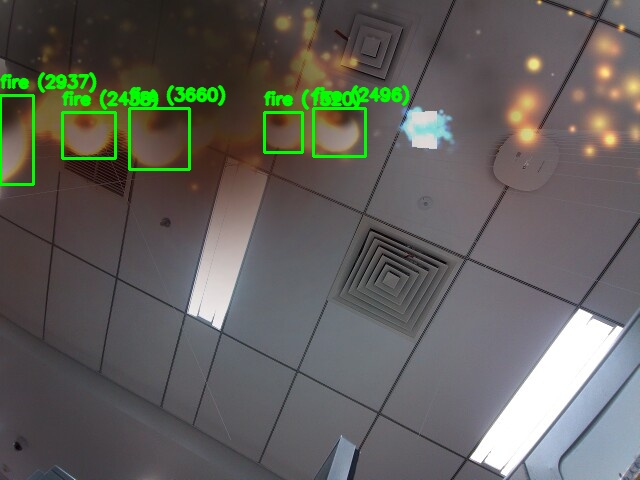fire: (129, 108, 189, 169), (0, 95, 33, 184), (313, 108, 365, 156), (62, 112, 115, 158), (264, 112, 302, 152)
